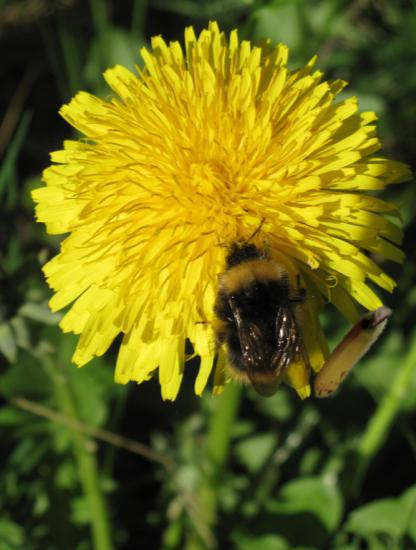Banana: (291, 291, 412, 412)
